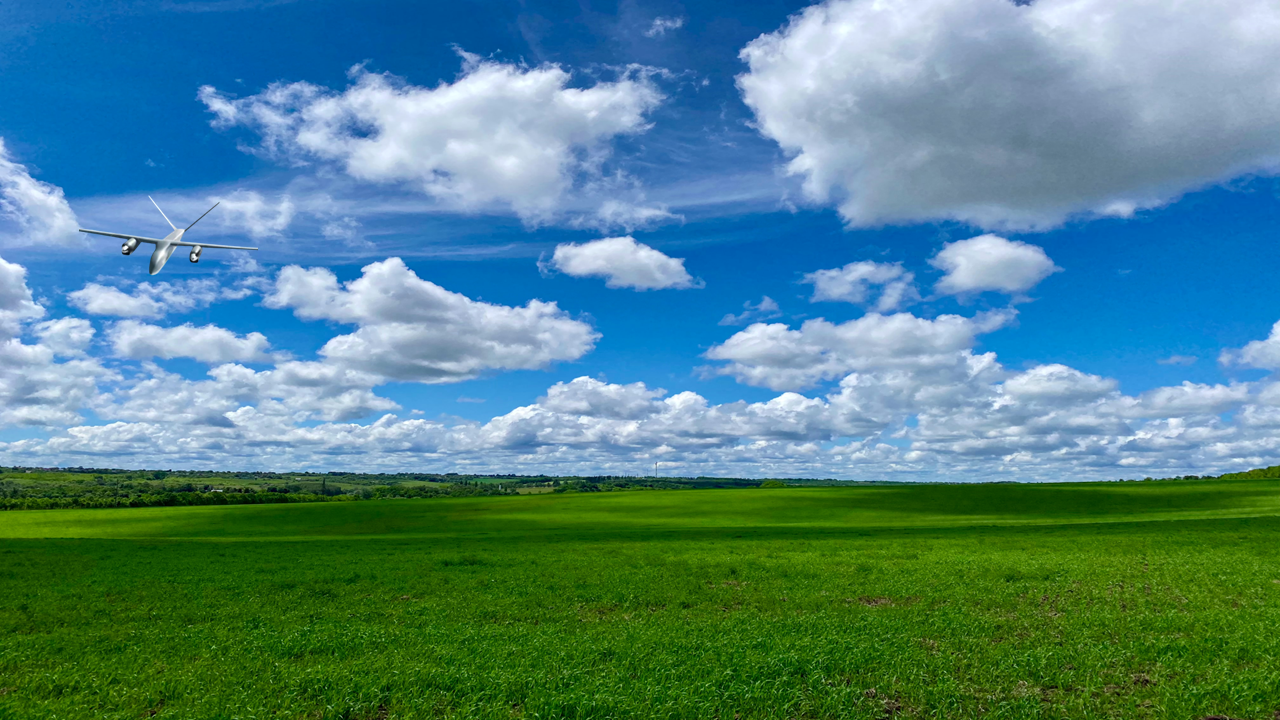military drone: (79, 195, 258, 274)
